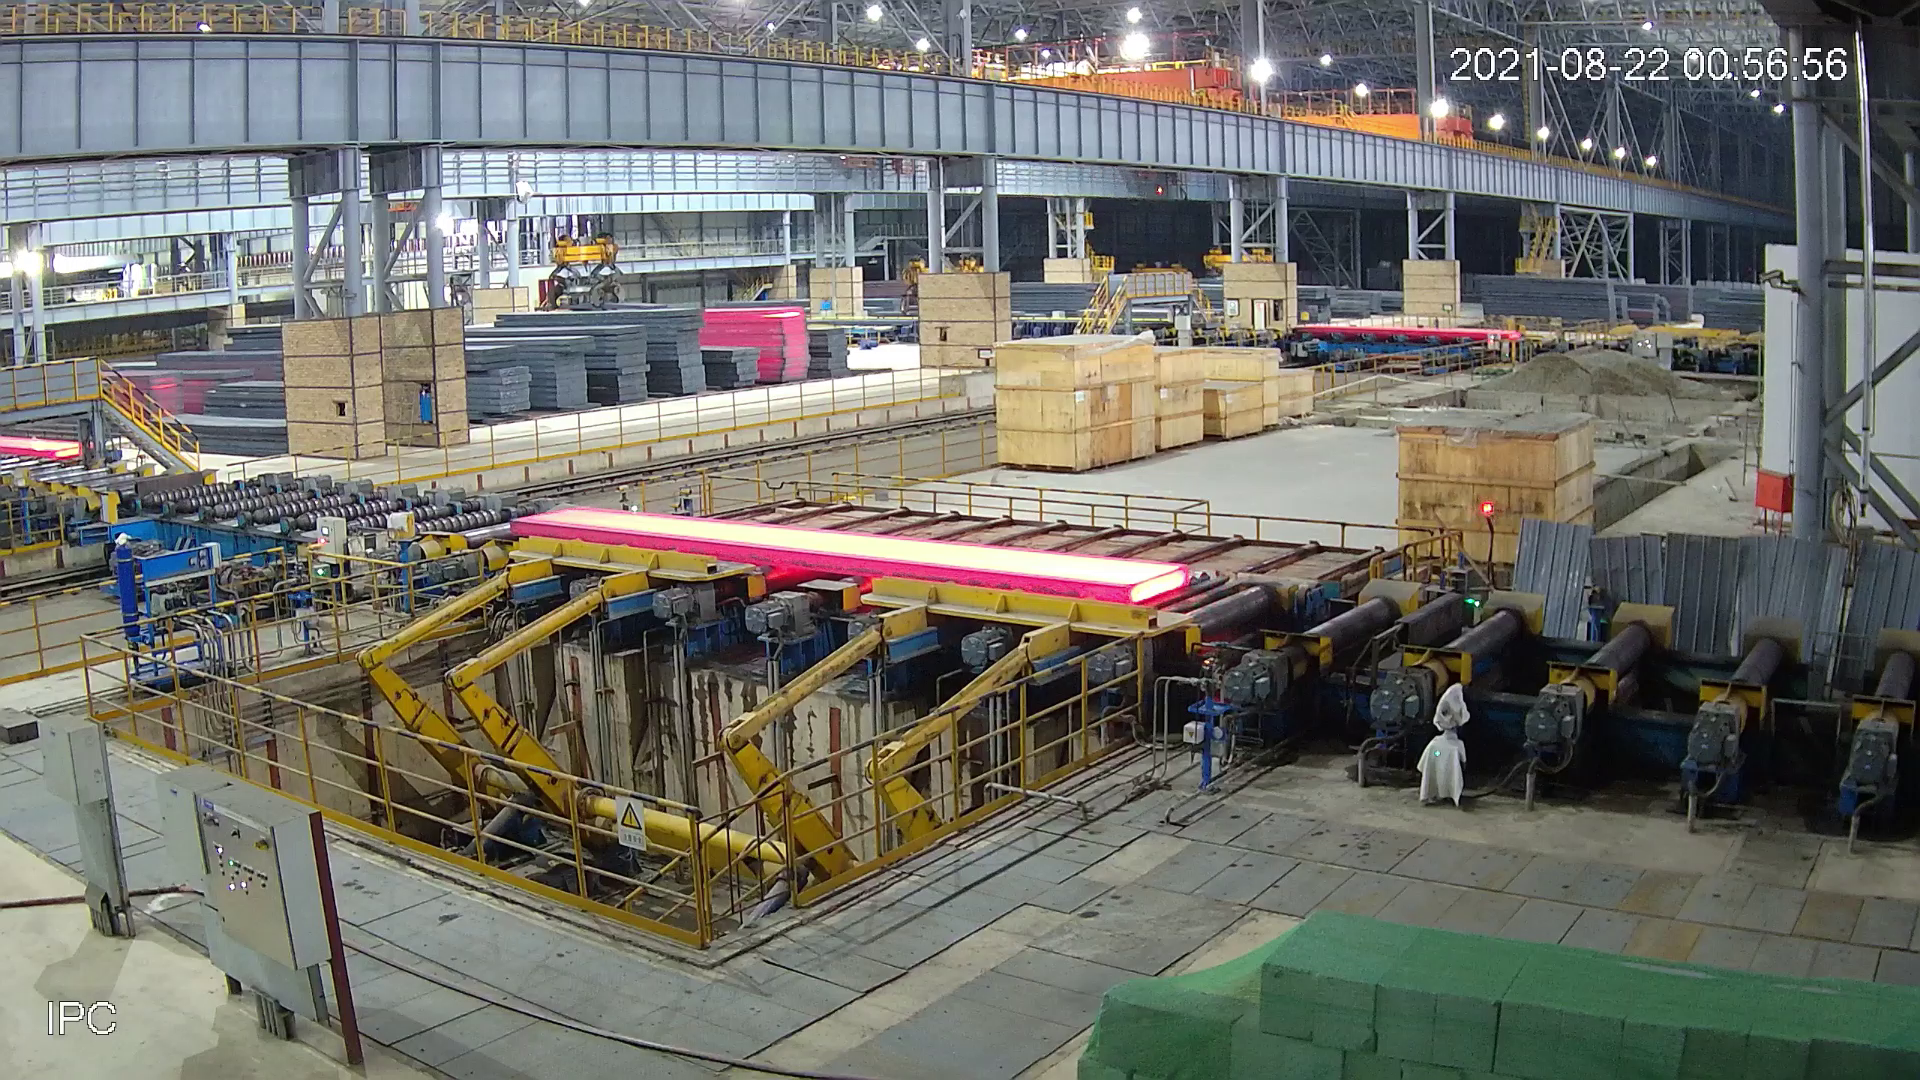slab: (1, 781, 700, 866)
